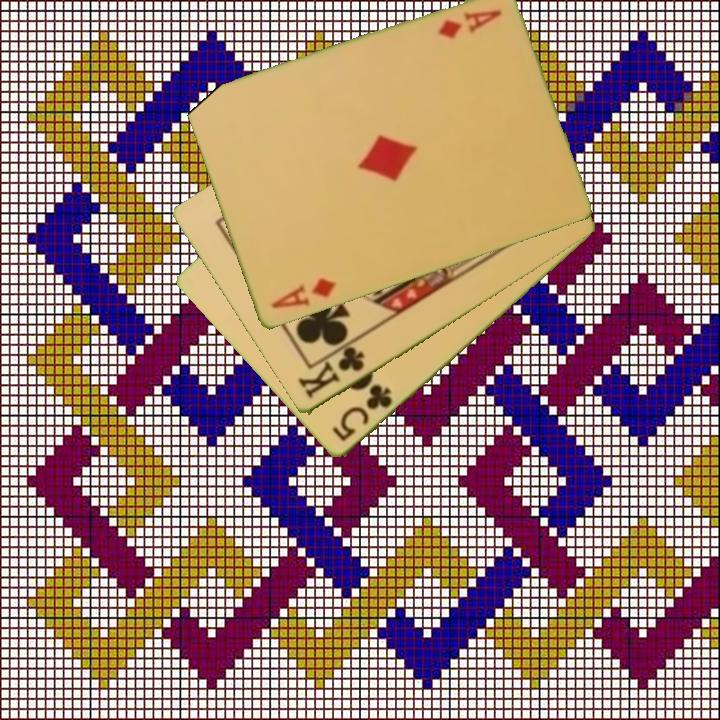5c: (328, 381, 396, 445)
Ad: (267, 274, 339, 312), (434, 6, 505, 43)
Kc: (295, 343, 368, 403)
